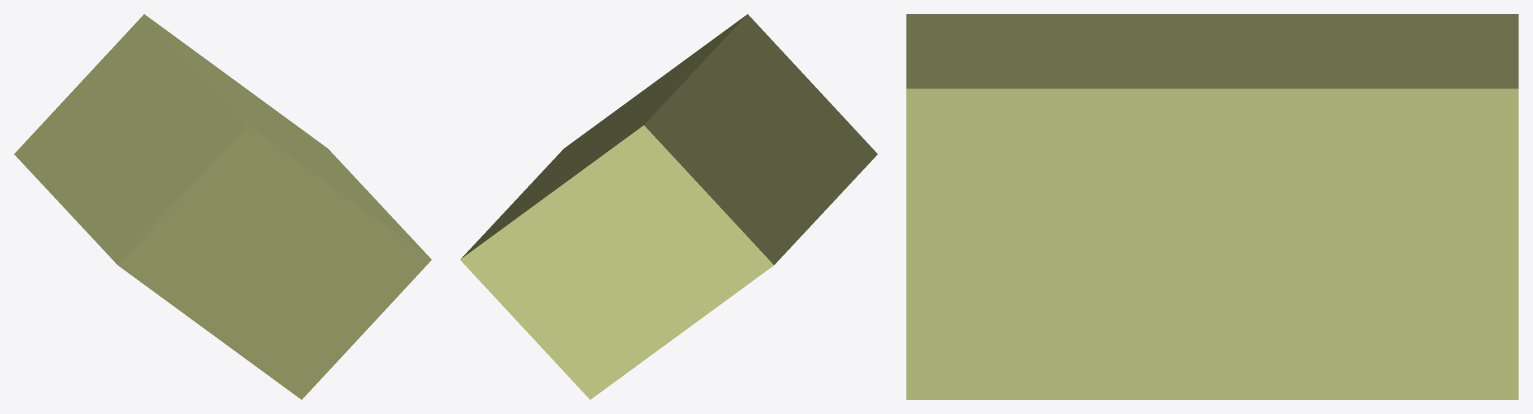
3 renders of one model, left to right at view 1: azimuth 30°, elevation 25°; view 2: azimuth 150°, elevation 25°; view 3: azimuth 270°, elevation 25°, orthographic. The views are drawn at different scales.
Visible parts, largest first — view 1: 0_0_1_1_2_1_3_3_1_1_3; view 2: 0_0_1_1_2_1_3_3_1_1_3; view 3: 0_0_1_1_2_1_3_3_1_1_3.
Boxes of the visible parts, box(x1,y1,x2,y2) form: 0_0_1_1_2_1_3_3_1_1_3: box(14, 14, 431, 399); 0_0_1_1_2_1_3_3_1_1_3: box(460, 14, 877, 399); 0_0_1_1_2_1_3_3_1_1_3: box(906, 14, 1518, 399).
Bounding box in the file's own units: 6.61 × 6.61 × 9.
